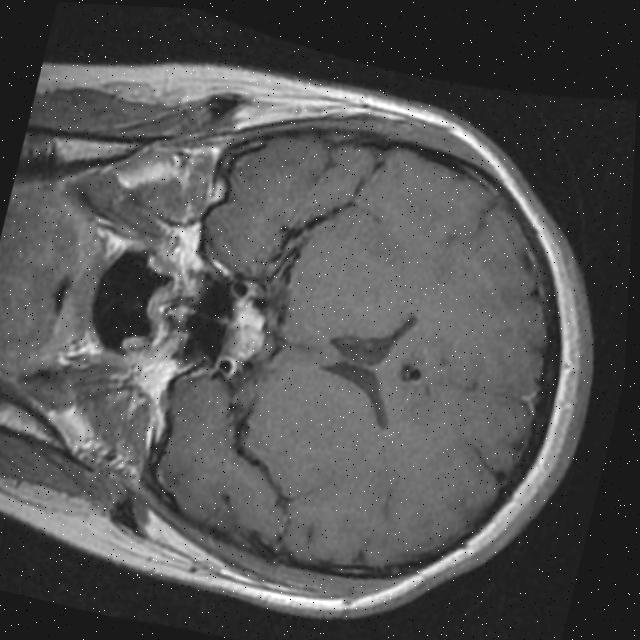Pituitary: (216, 291, 271, 373)
